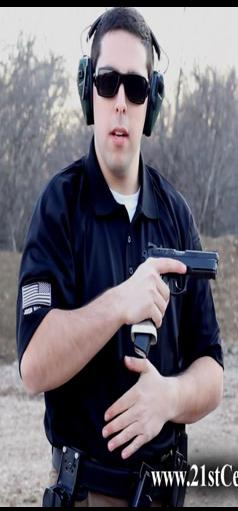pistol: (132, 239, 222, 355)
